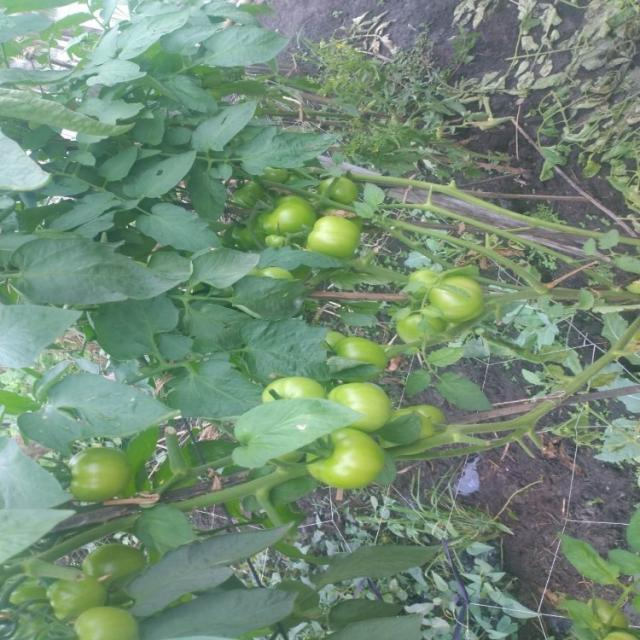tomato: (303, 425, 388, 495), (298, 206, 377, 277), (421, 261, 488, 328), (320, 326, 393, 385), (68, 440, 134, 505), (1, 563, 58, 637), (322, 374, 389, 435), (80, 536, 158, 588), (262, 183, 325, 241), (49, 570, 115, 625), (256, 368, 321, 410), (71, 604, 145, 640), (387, 304, 435, 356), (254, 224, 297, 253)
